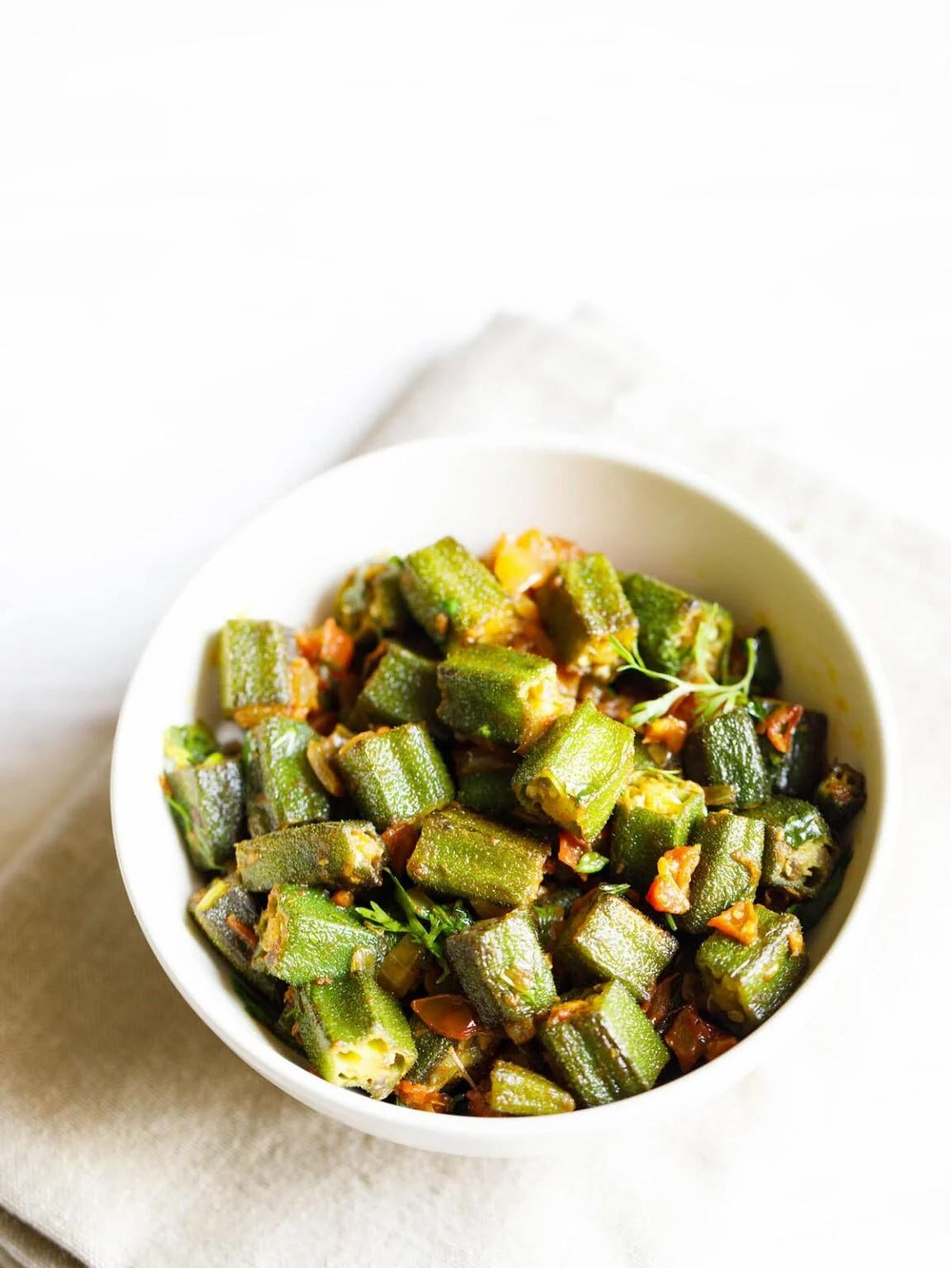BhindiMasala: (159, 530, 867, 1118)
